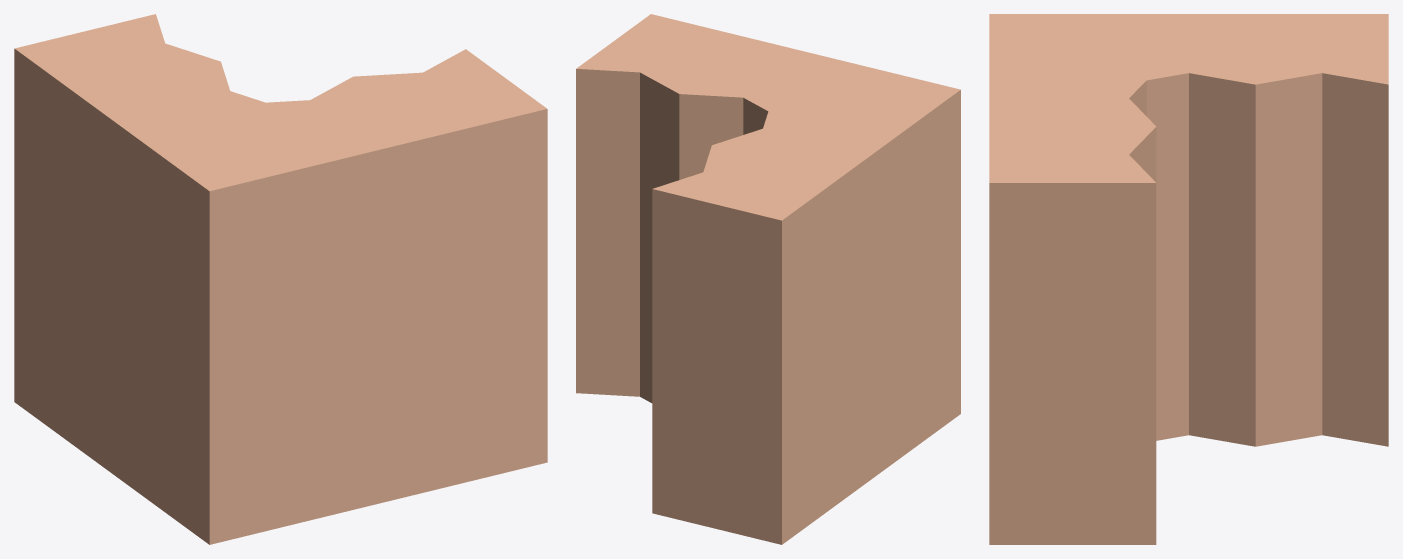
Rendered from cliff_cornerInnerLarge_rock.glb.
3 views of the same model, side by side, from view 1: azimuth 30°, elevation 25°; view 2: azimuth 150°, elevation 25°; view 3: azimuth 270°, elevation 25° (orthographic). The views are drawn at different scales.
Parts seen in each view (by area): view 1: cliff_cornerInnerLarge_rock; view 2: cliff_cornerInnerLarge_rock; view 3: cliff_cornerInnerLarge_rock.
Part boxes in pixels (x1,y1,x2,y2): cliff_cornerInnerLarge_rock: (14, 14, 547, 544); cliff_cornerInnerLarge_rock: (576, 14, 960, 544); cliff_cornerInnerLarge_rock: (989, 14, 1388, 544).
Bounding box in the file's own units: 1 × 1 × 1.
